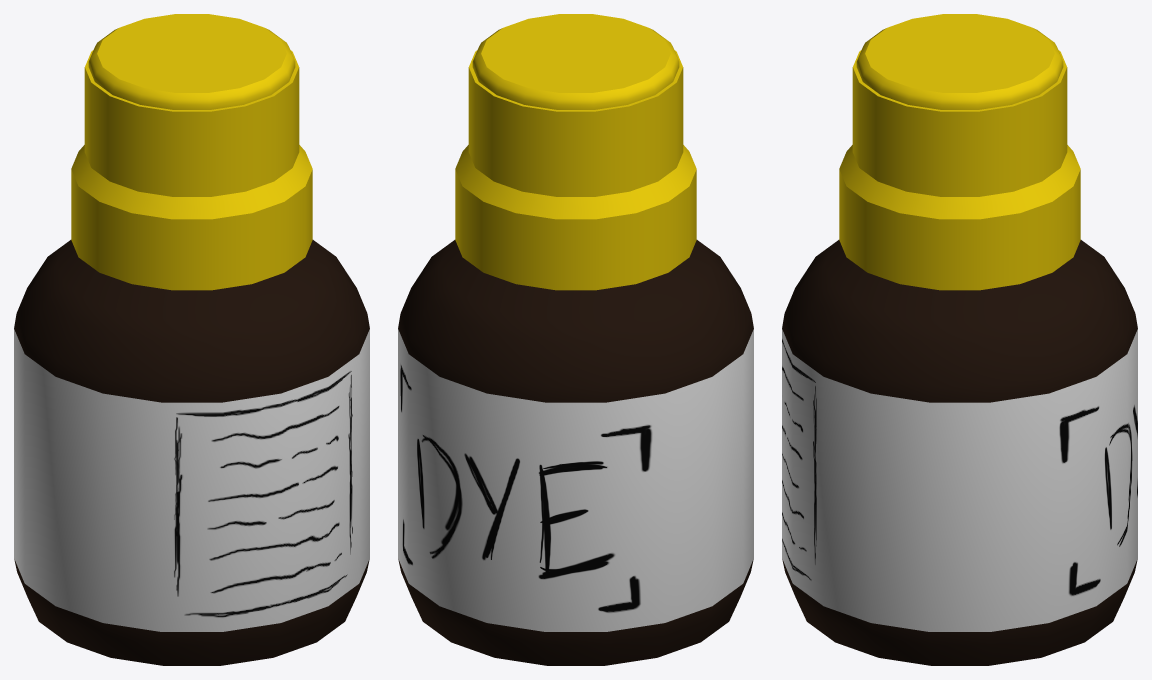
Rendered from coranteAmarelo.fbx.
3 renders of one model, left to right at view 1: azimuth 30°, elevation 25°; view 2: azimuth 150°, elevation 25°; view 3: azimuth 270°, elevation 25°, orthographic.
Parts seen in each view (by area): view 1: Corante, Tampa; view 2: Corante, Tampa; view 3: Corante, Tampa.
Boxes of the visible parts, <box> form: Corante: <box>14,240,369,665</box>; Tampa: <box>71,14,312,290</box>; Corante: <box>398,240,753,665</box>; Tampa: <box>455,14,696,290</box>; Corante: <box>782,240,1137,665</box>; Tampa: <box>839,14,1080,290</box>.
Size of the model in its own units: 215 by 369 by 218.
